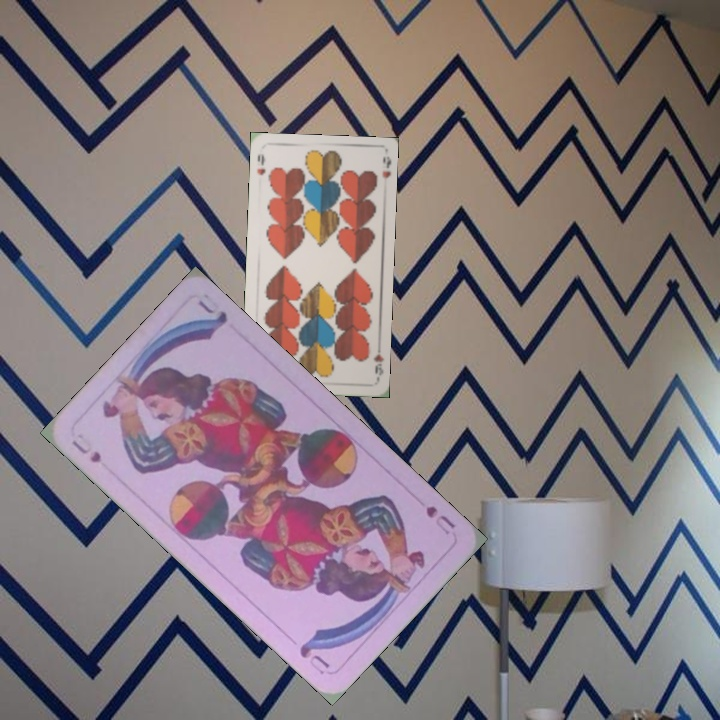H9: (369, 340, 386, 378), (253, 150, 268, 177)
SU: (421, 502, 458, 538), (67, 436, 104, 466)
